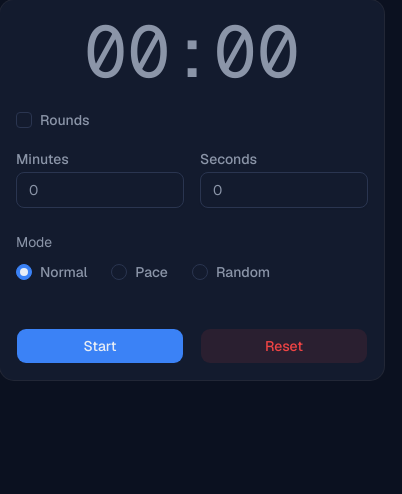
Scenario: Timer — random cue (BPR-005) › 5.1 the Random radio is selectable and reveals Min/Max inputs
The width and height of the screenshot is (402, 494).
Click the radio button named "Random" next to "Random" at (200, 272), box [192,264,208,280]
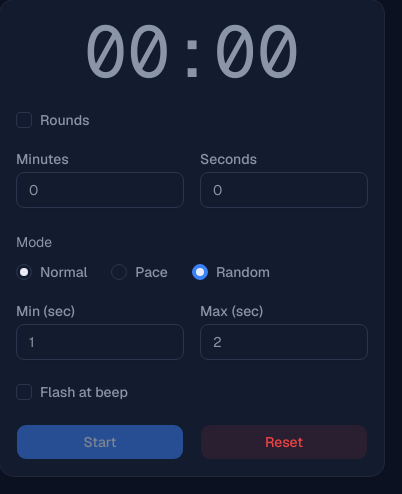
expect the radio button named "Random" next to "Random" is checked: met, box [192,264,208,280]
expect the number field labelled "Min (sec)" is shown: met, box [16,324,184,360]
expect the number field labelled "Max (sec)" is shown: met, box [200,324,368,360]
